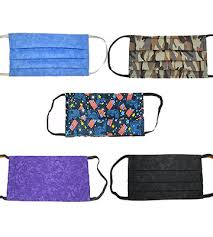cloth_mask: (110, 152, 213, 202), (1, 32, 108, 79)
